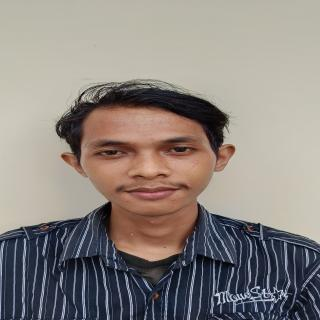Netral: (84, 104, 220, 220)
